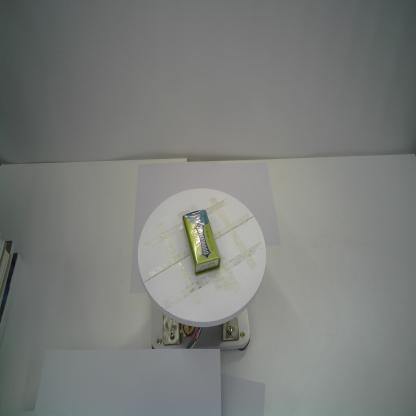Gum: (182, 209, 221, 276)
